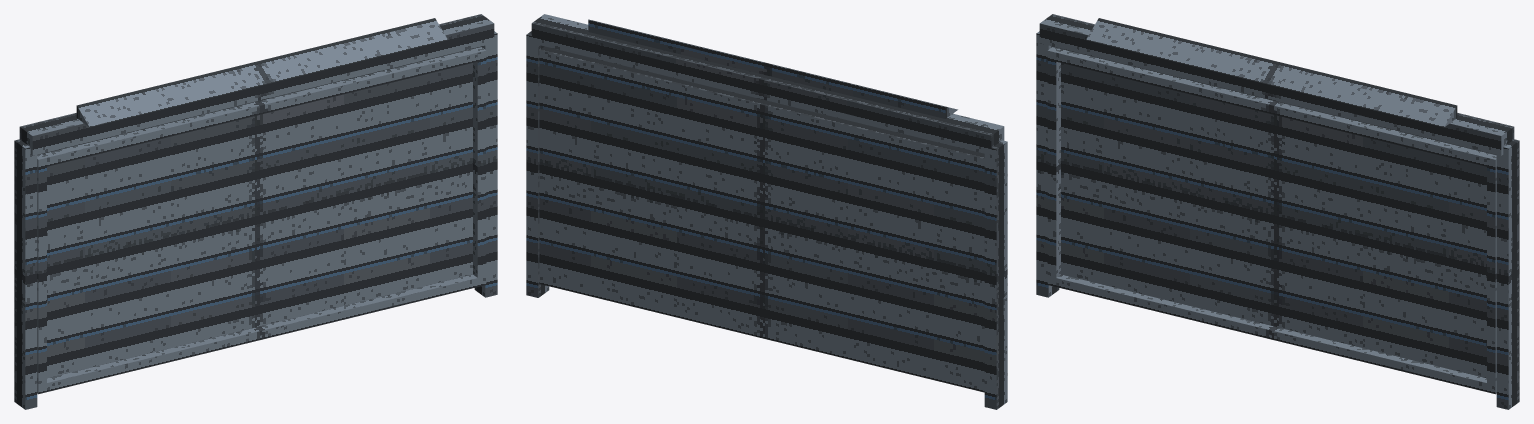
File: hub_campaign_board.glb
The picture shows the model from 3 angles, left to right: view 1: azimuth 30°, elevation 25°; view 2: azimuth 150°, elevation 25°; view 3: azimuth 330°, elevation 25°; orthographic projection.
Parts seen in each view (by area): view 1: hub_campaign_board; view 2: hub_campaign_board; view 3: hub_campaign_board.
Part boxes in pixels (x1=…): hub_campaign_board: x1=14, y1=14, x2=497, y2=409; hub_campaign_board: x1=526, y1=14, x2=1007, y2=409; hub_campaign_board: x1=1036, y1=14, x2=1519, y2=409.
Bounding box in the file's own units: 5.48 × 3.18 × 0.37.
1 material, 1 textured.
